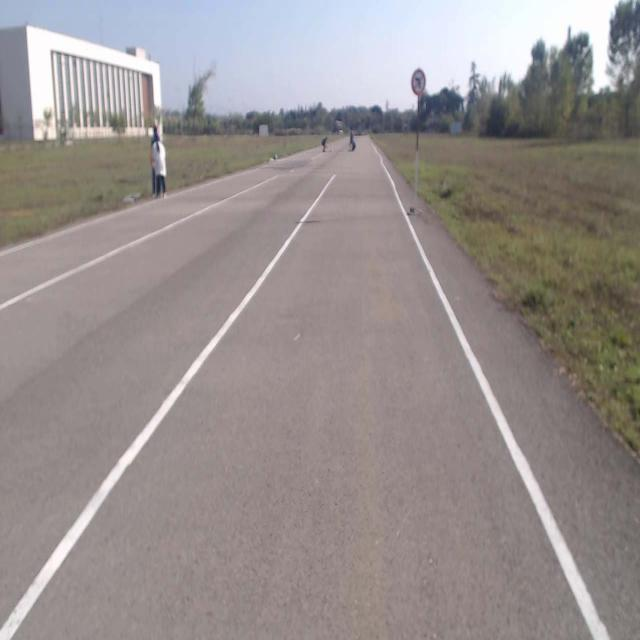soladonulmez: (411, 69, 426, 95)
